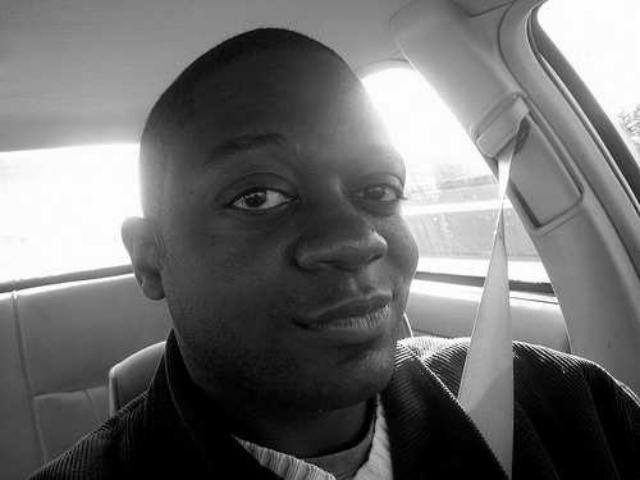SafeDriving: (212, 162, 306, 225), (342, 166, 413, 214)
Seatbelt: (450, 109, 530, 479)
